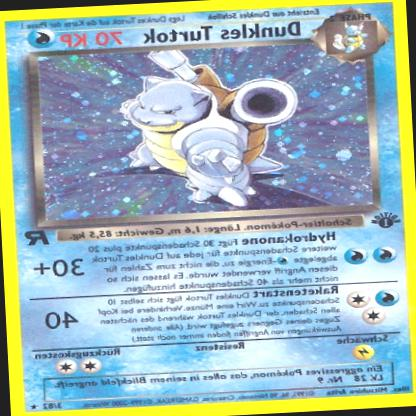Blastoise: (113, 48, 307, 214)
